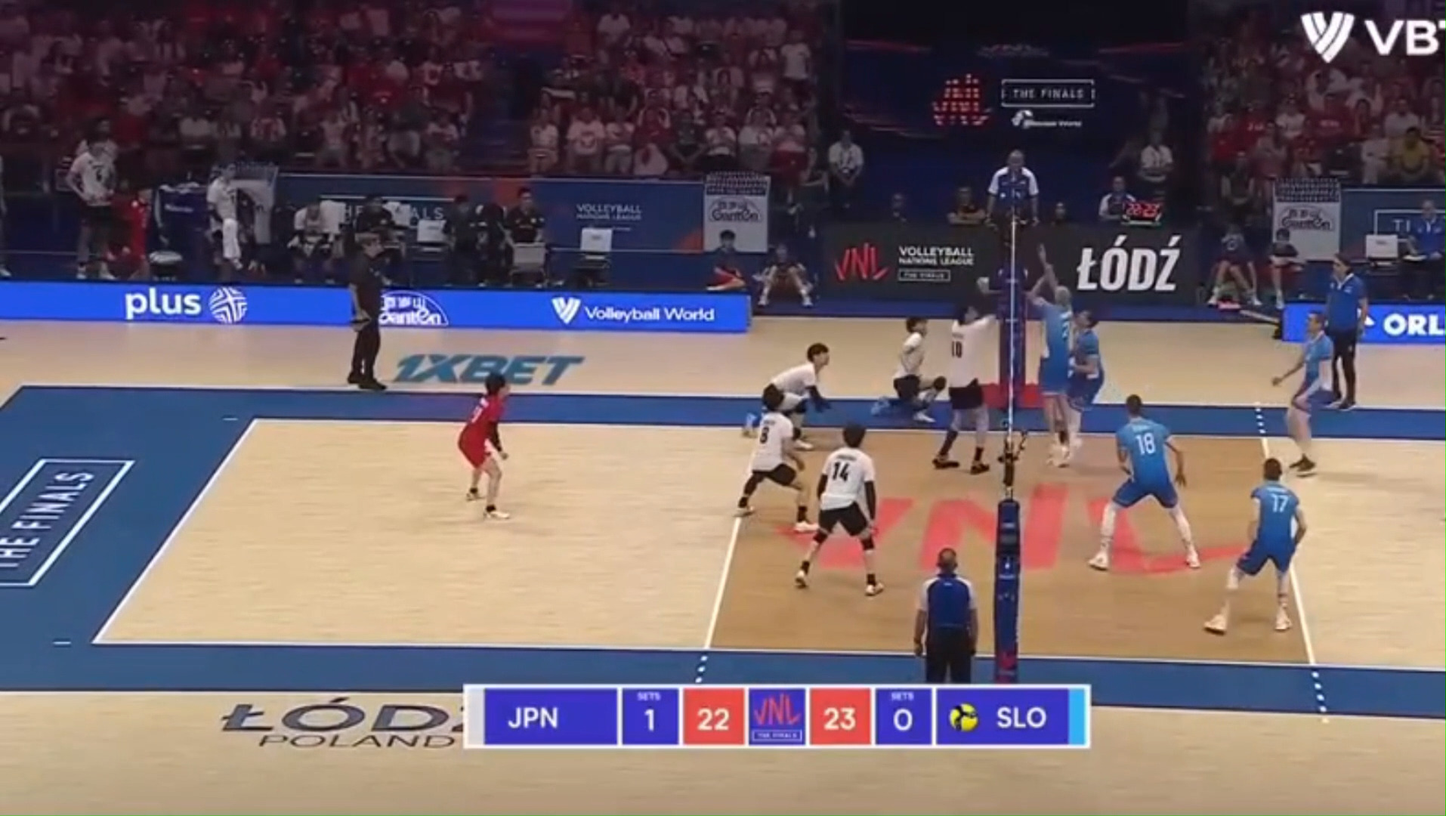ball: (1012, 109, 1033, 127)
player: (1089, 394, 1199, 570), (1204, 457, 1307, 635), (1029, 246, 1078, 465), (1271, 313, 1333, 476), (1066, 310, 1104, 433), (1061, 436, 1080, 465)
player 1: (795, 423, 883, 596), (737, 385, 814, 531), (933, 301, 996, 474), (458, 372, 509, 518), (875, 318, 945, 423), (763, 342, 830, 449), (745, 416, 762, 438)
referee: (913, 548, 976, 683), (1324, 255, 1368, 409), (347, 237, 387, 391), (987, 150, 1039, 256)
